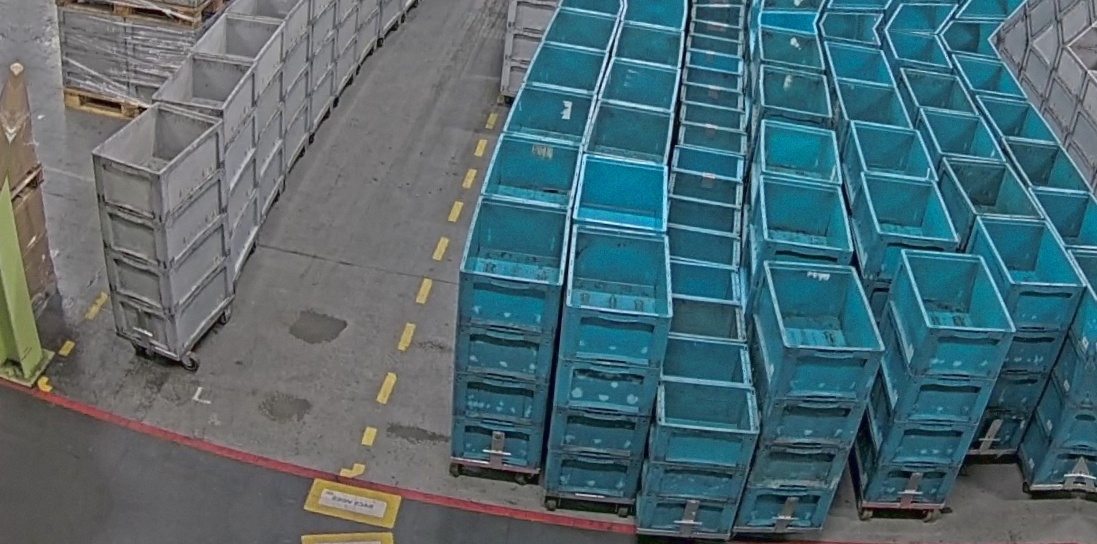4G: (75, 99, 252, 362)
B4: (849, 245, 1020, 517), (732, 258, 892, 539), (545, 223, 680, 506), (946, 213, 1092, 467), (442, 194, 573, 475)
B8: (636, 334, 767, 539)
